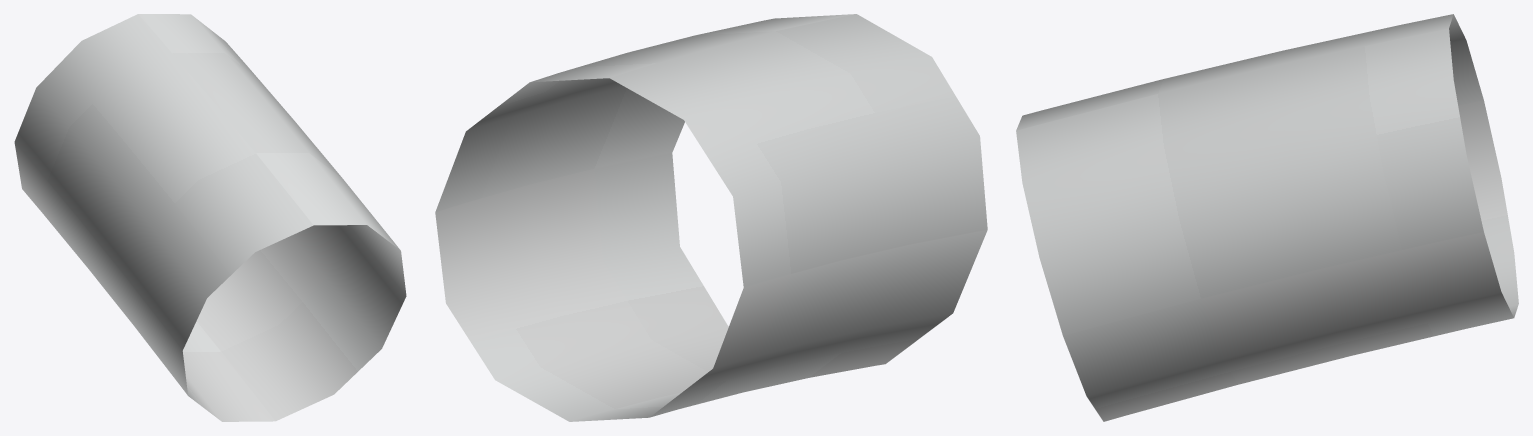
Rendered from luminairearm_truss8ft_c5.obj.
The picture shows the model from 3 angles, left to right: view 1: azimuth 30°, elevation 25°; view 2: azimuth 150°, elevation 25°; view 3: azimuth 270°, elevation 25°; orthographic projection. The views are drawn at different scales.
Parts seen in each view (by area): view 1: luminairearm_truss8ft_c5; view 2: luminairearm_truss8ft_c5; view 3: luminairearm_truss8ft_c5.
Boxes of the visible parts, bbox=[...] form: luminairearm_truss8ft_c5: bbox=[14, 14, 406, 421]; luminairearm_truss8ft_c5: bbox=[435, 14, 987, 421]; luminairearm_truss8ft_c5: bbox=[1016, 14, 1518, 421].
Bounding box in the file's own units: 0.1917 × 0.2511 × 0.3025.
